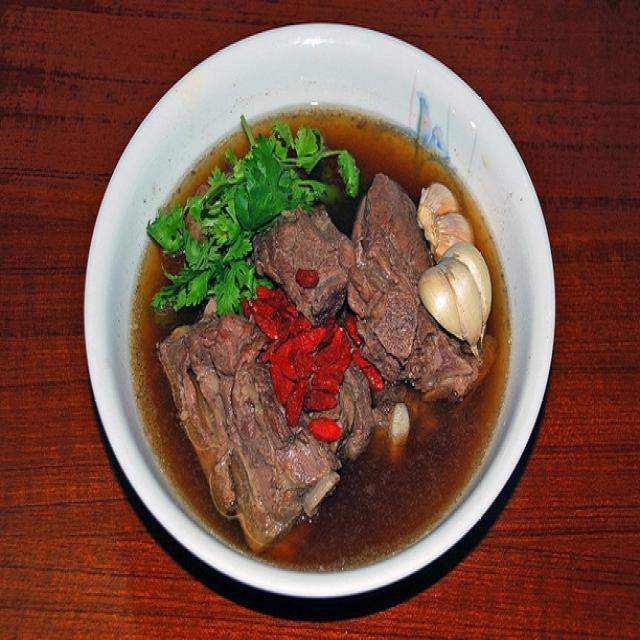汤锅炖物: (68, 13, 557, 588)
